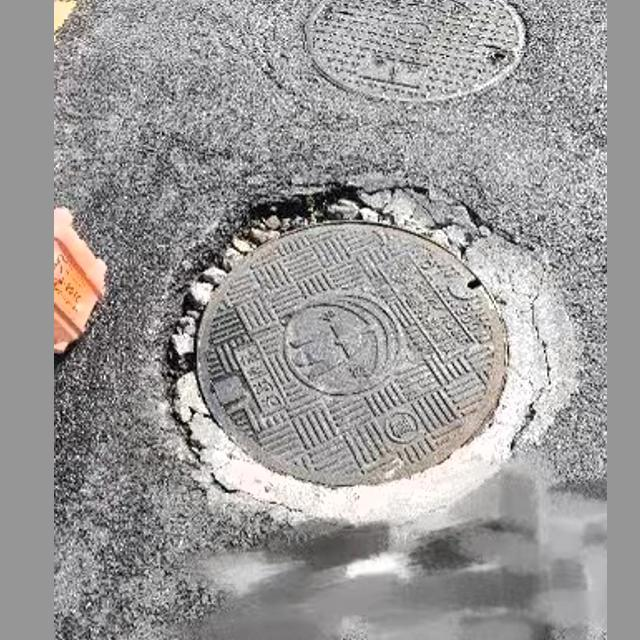circle: (164, 185, 573, 538)
good: (300, 0, 533, 104)
